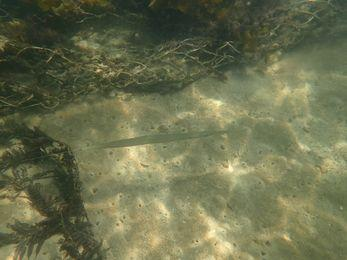Fistularia commersonii: (38, 122, 264, 150)
